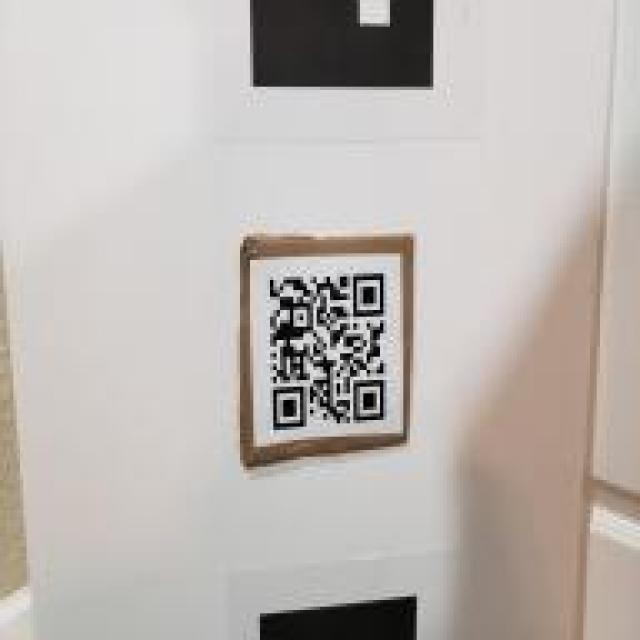qr_code: (270, 272, 384, 430)
